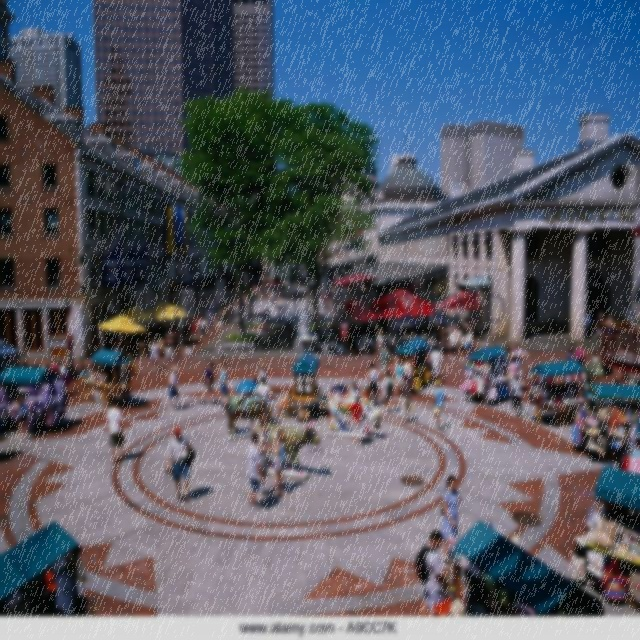pessoa: (412, 526, 450, 632), (163, 423, 197, 503), (438, 472, 465, 565), (86, 354, 135, 405), (259, 280, 297, 329), (245, 431, 264, 512), (323, 377, 347, 438), (104, 400, 126, 465), (360, 388, 381, 444), (271, 426, 286, 498), (396, 372, 415, 424), (197, 359, 218, 406), (430, 378, 448, 431), (508, 372, 526, 421), (39, 358, 70, 386), (258, 421, 273, 478), (348, 395, 364, 448), (165, 363, 182, 412), (13, 394, 30, 441), (381, 367, 397, 416), (276, 387, 301, 417), (364, 360, 379, 408), (191, 308, 214, 338), (428, 341, 443, 376), (234, 376, 258, 397), (371, 326, 384, 364), (219, 361, 231, 402), (148, 337, 161, 372), (377, 342, 391, 374), (574, 341, 588, 372), (255, 374, 272, 399), (402, 355, 416, 385), (447, 327, 458, 362), (395, 358, 404, 398), (164, 332, 175, 364), (457, 330, 467, 362), (595, 312, 605, 343), (604, 314, 614, 344), (319, 282, 329, 312), (511, 342, 523, 366), (257, 360, 268, 385), (351, 332, 361, 358), (583, 308, 591, 340), (465, 330, 475, 350), (387, 356, 395, 381), (454, 323, 464, 341), (591, 351, 600, 364), (566, 348, 575, 361), (350, 379, 358, 392), (504, 343, 512, 353)
